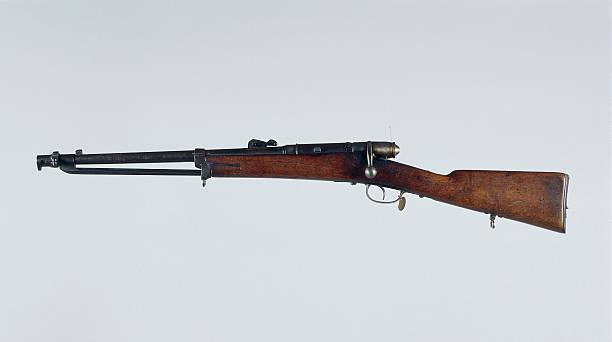rifle: (34, 138, 581, 239)
